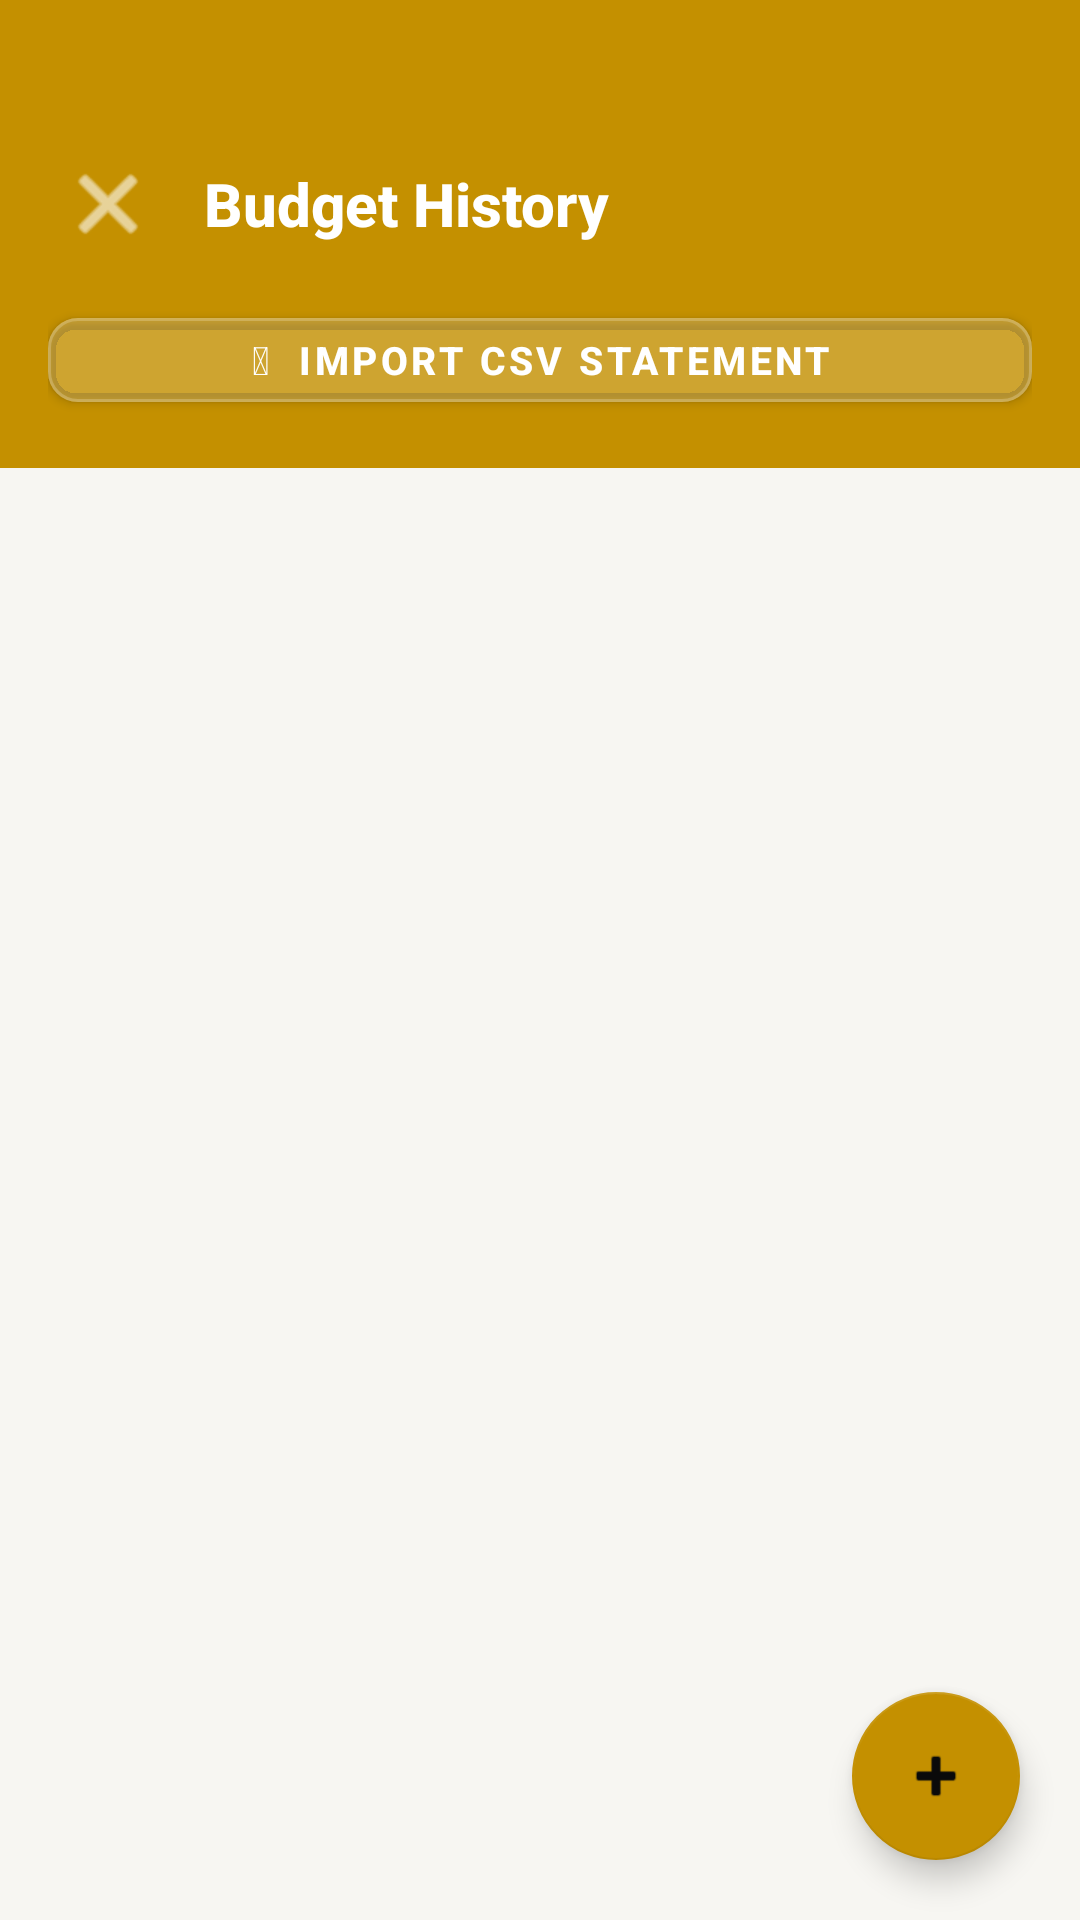

Icons on this 1080*1920 Android screen, each with the point to tap as point (x, y):
close clear cancel: point (108, 204)
